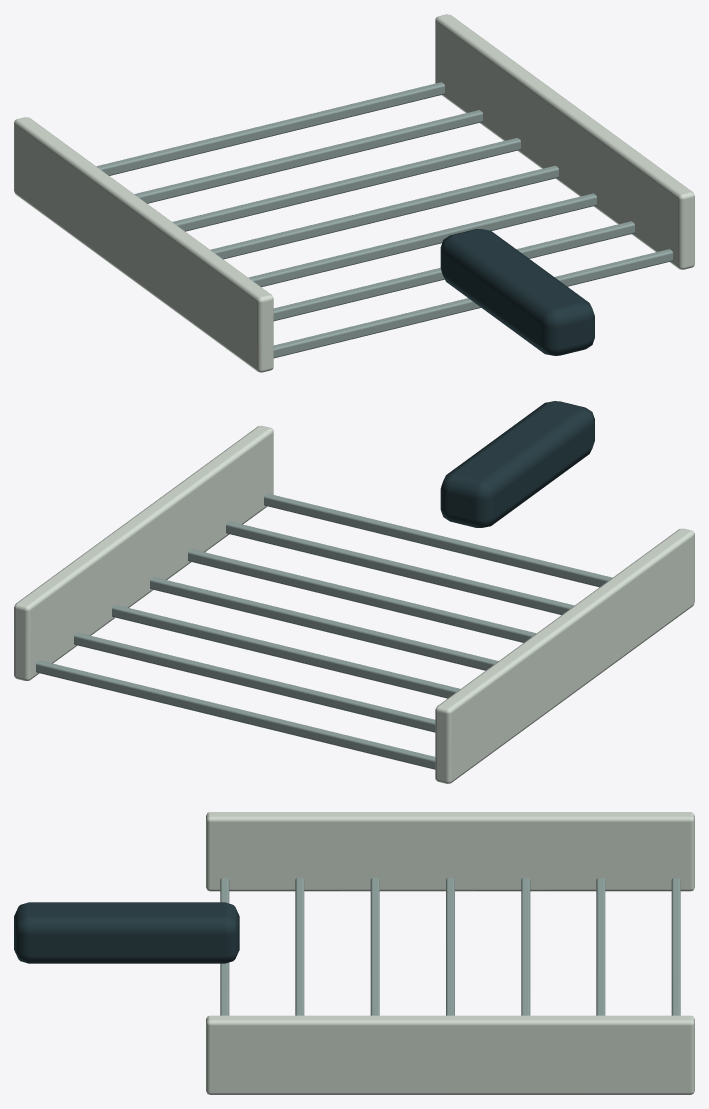
The model's file is fryer-basket.glb.
The picture shows the model from 3 angles, top to bottom: view 1: azimuth 30°, elevation 25°; view 2: azimuth 150°, elevation 25°; view 3: azimuth 270°, elevation 25°; orthographic projection.
Visible parts, largest first — view 1: fryer-basket; view 2: fryer-basket; view 3: fryer-basket.
Boxes of the visible parts, x1=… form: fryer-basket: x1=14, y1=14, x2=694, y2=372; fryer-basket: x1=14, y1=401, x2=694, y2=783; fryer-basket: x1=14, y1=812, x2=694, y2=1094.
Size of the model in its own units: 0.665 by 0.12 by 0.905.
